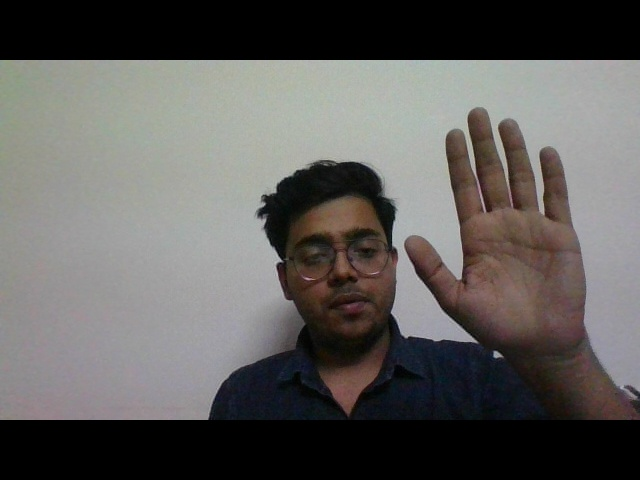Hello: (400, 98, 620, 371)
